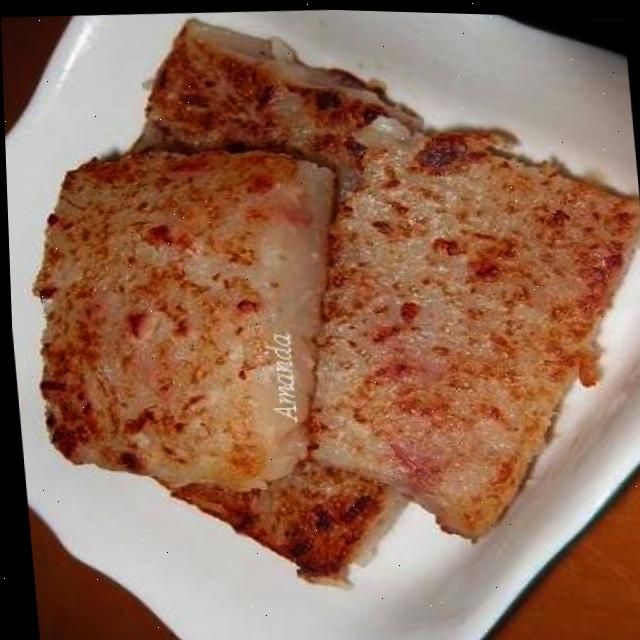蛋糕甜品: (29, 23, 631, 584)
